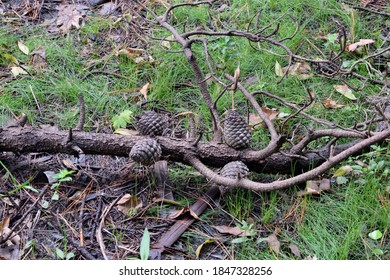Pc: (221, 112, 253, 149), (127, 137, 163, 166), (135, 110, 166, 138), (220, 161, 248, 181)
